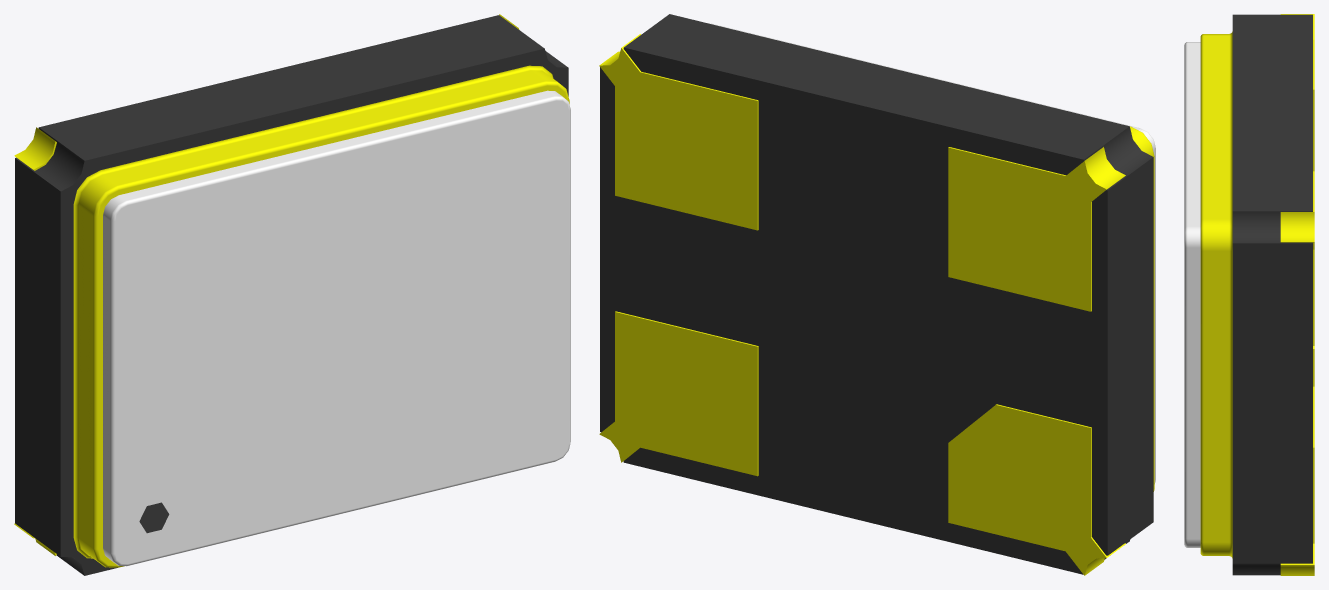
Rendered from YXC_Crystal_Oscillators_X322525MRB4SI.3dmodel.glb.
3 views of the same model, side by side, from view 1: azimuth 30°, elevation 25°; view 2: azimuth 150°, elevation 25°; view 3: azimuth 270°, elevation 25° (orthographic). The views are drawn at different scales.
Parts seen in each view (by area): view 1: =>[0:1:1:1]; view 2: =>[0:1:1:1]; view 3: =>[0:1:1:1].
Boxes of the visible parts, x1=… form: =>[0:1:1:1]: x1=14, y1=14, x2=570, y2=575; =>[0:1:1:1]: x1=599, y1=14, x2=1155, y2=575; =>[0:1:1:1]: x1=1184, y1=14, x2=1314, y2=575.
Size of the model in its own units: 3.2 by 2.5 by 0.81.
